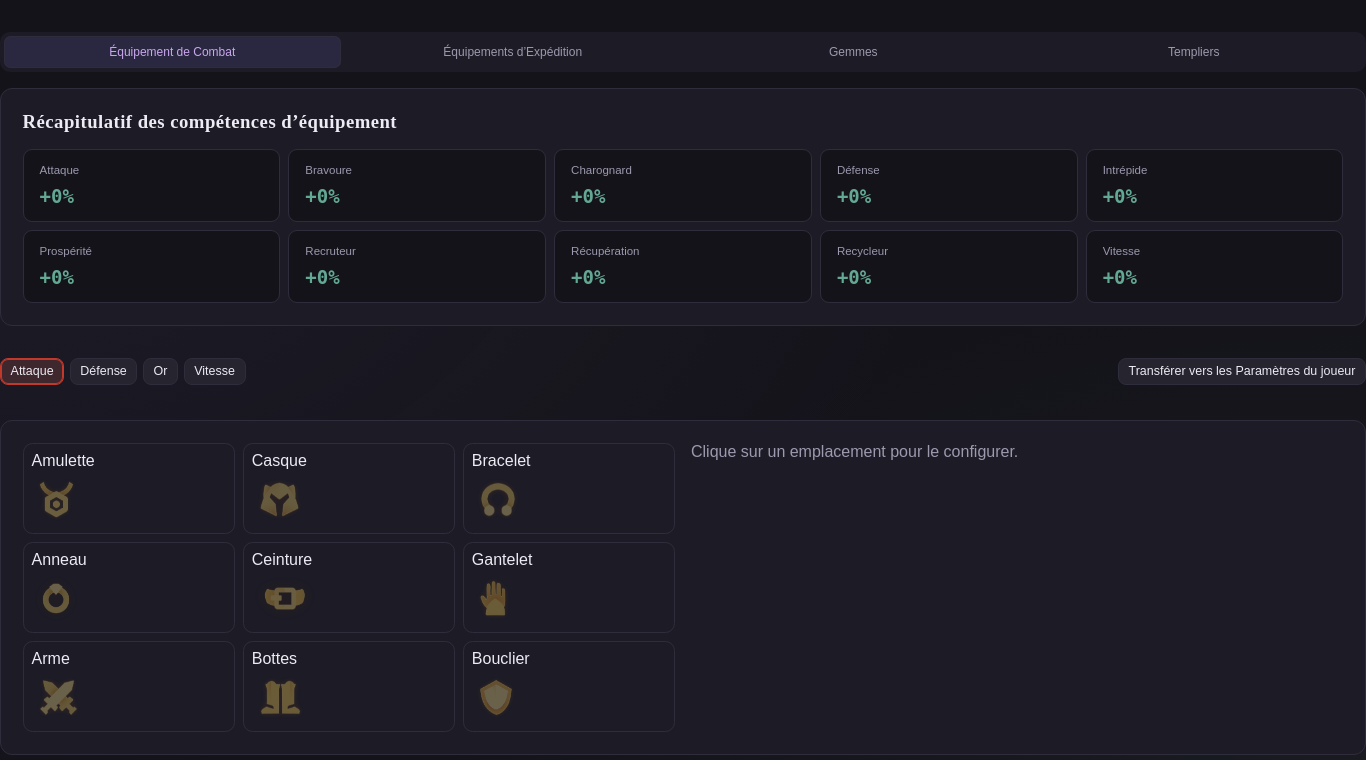
Test: SkillsCalculators › caps mixed optimization rows at the available socket count
The width and height of the screenshot is (1366, 760).
Click the tab "Gemmes" at (853,52), box [685,36,1022,68]
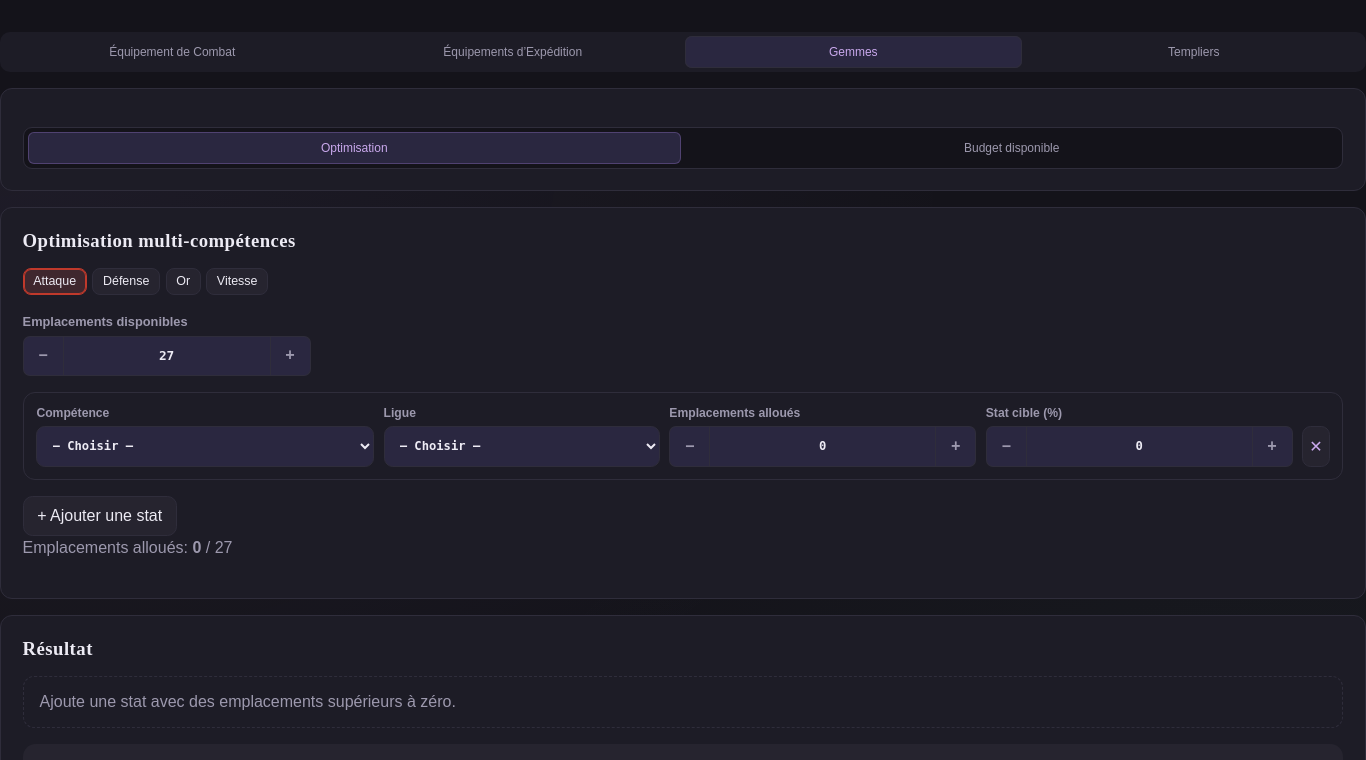
Check: the dropdown named "Ligue ligne 1" shows "— Choisir —", box [384,426,660,466]
Replace the text in the number field named "Emplacements ligne 1" with "25" at (823,446), box [709,426,936,466]
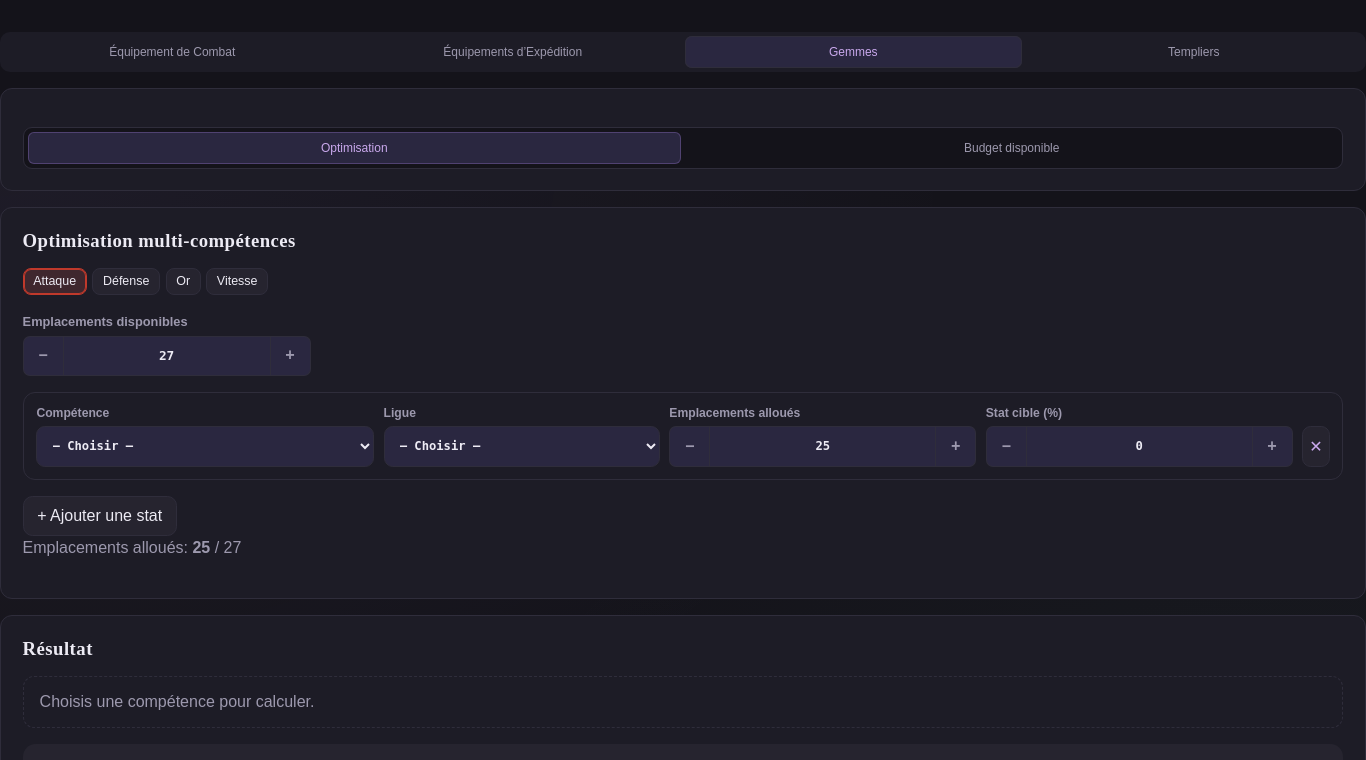
Click the button "+ Ajouter une stat" at (100,516), box [23,496,177,536]
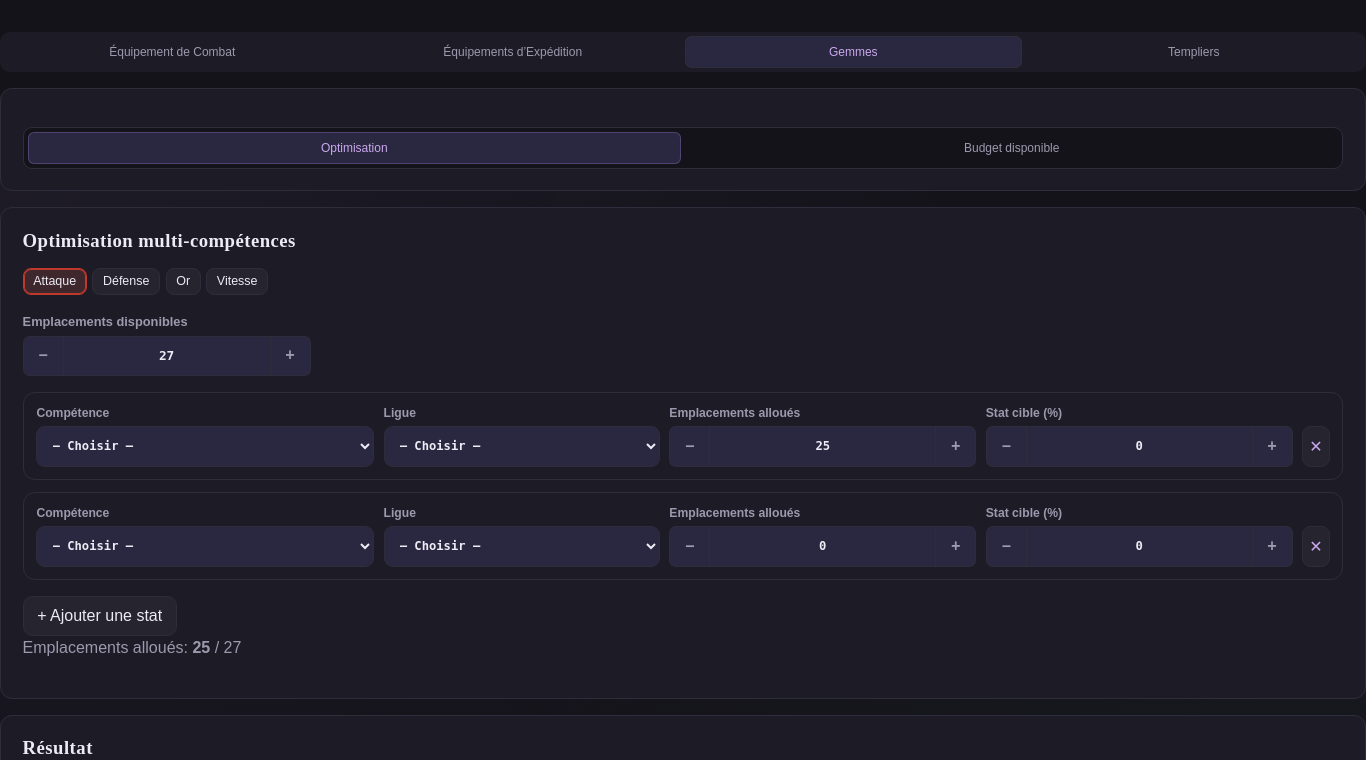
Replace the text in the number field named "Emplacements ligne 2" with "10" at (823,546), box [709,526,936,566]
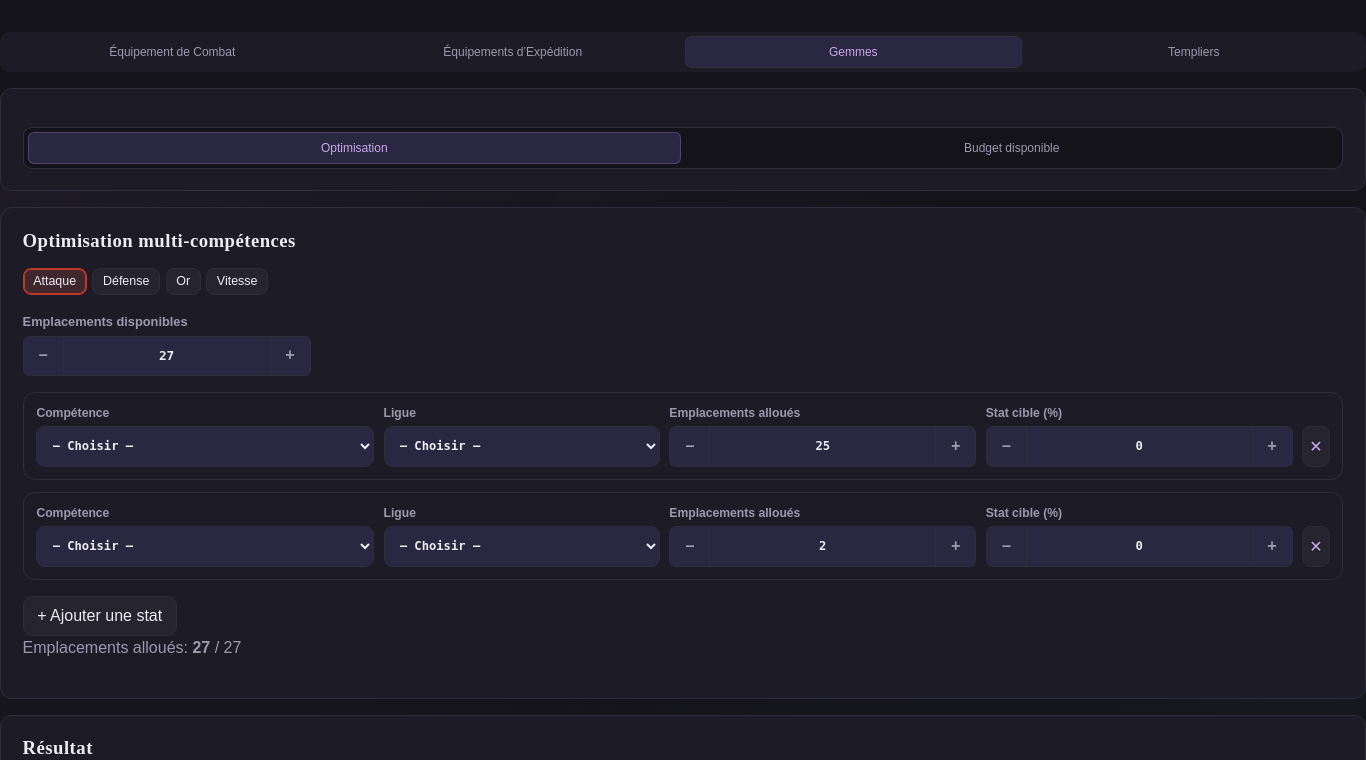
Check: the text with test id "gem-allocated" reads "27", box [192,638,210,656]
Check: the number field named "Emplacements ligne 2" holds "2", box [709,526,936,566]
